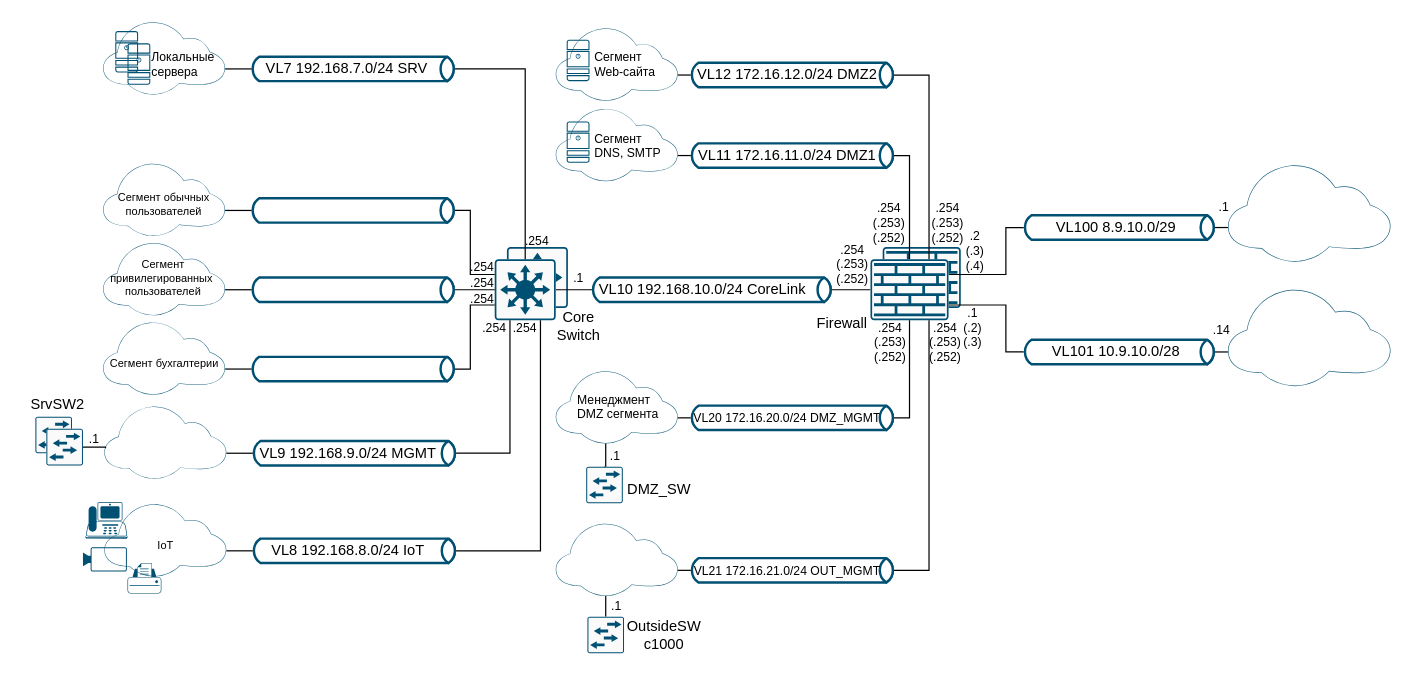
Some shapes in this 1412 by 675 pixel diagram are drawn without their labels. Each missing label, with the centre of its shape:
ISP1 - Beeline: (x=1308, y=212)
ISP2 - Rostelecom: (x=1308, y=337)
VL2 192.168.2.0/24 Users1: (x=353, y=209)
VL3 192.168.3.0/24 Users2: (x=353, y=289)
VL4 192.168.4.0/24 Buh: (x=353, y=368)
Менеджмент: (x=165, y=441)
Менеджмент Outside сегмента: (x=616, y=558)
